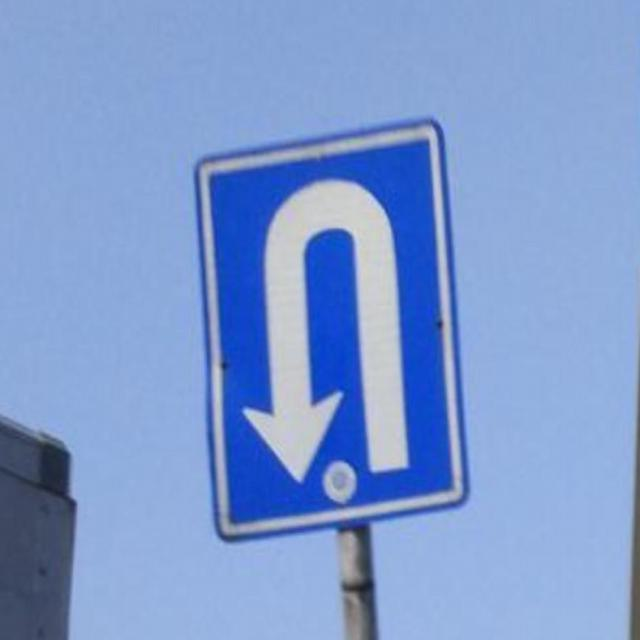U-turn: (195, 156, 449, 520)
